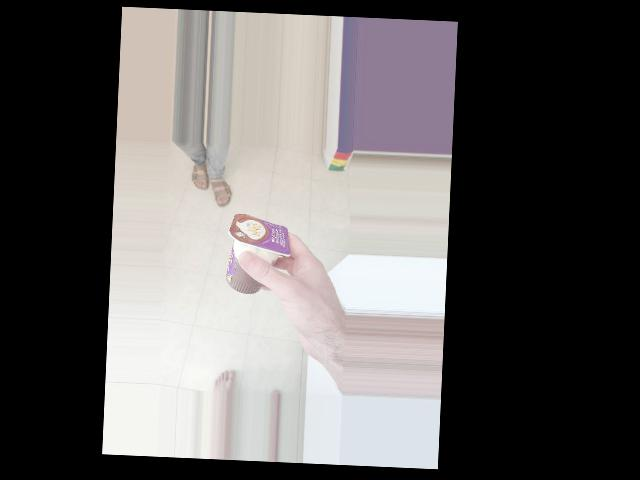milky: (186, 204, 279, 267)
